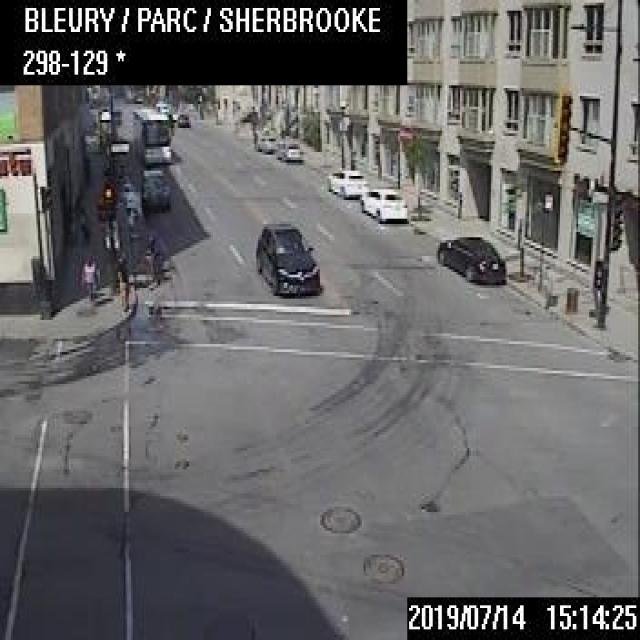bus: (129, 106, 173, 162)
pedestrian: (80, 250, 98, 306)
vehicle: (253, 219, 320, 296), (436, 235, 506, 283), (359, 187, 406, 222), (140, 168, 169, 210), (326, 168, 367, 196), (275, 139, 302, 159), (253, 132, 277, 150), (176, 111, 188, 125)
